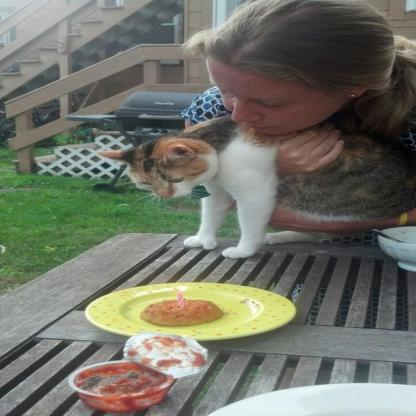Target: (125, 116, 416, 256)
